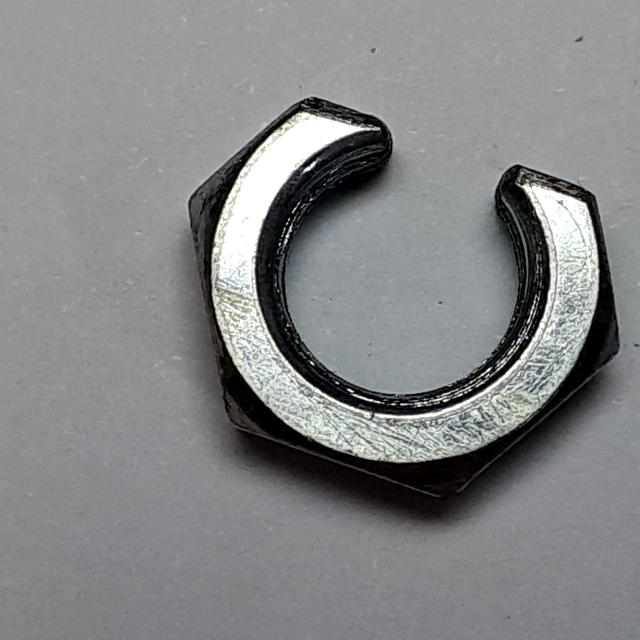Fracture: (177, 87, 632, 514)
